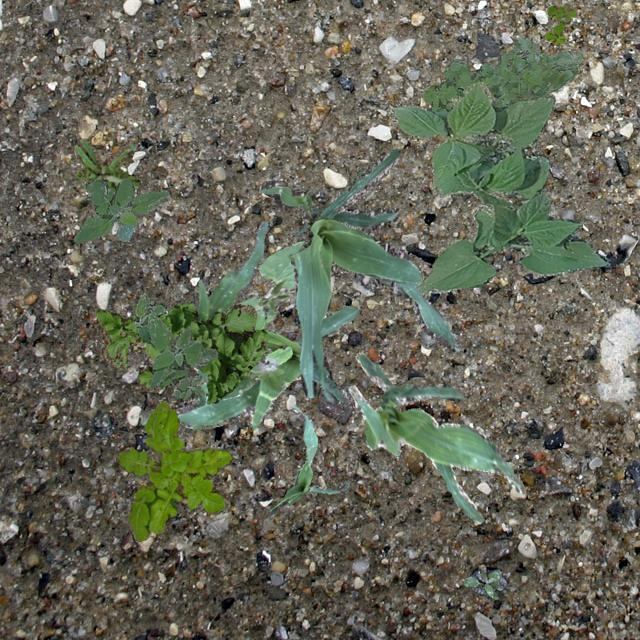crop: (258, 148, 460, 402), (388, 81, 610, 292), (348, 352, 524, 522), (140, 304, 358, 428), (196, 220, 266, 380), (270, 404, 348, 510), (238, 240, 304, 328)
weed: (95, 302, 268, 402), (114, 400, 230, 540), (422, 36, 582, 114), (132, 294, 216, 401), (204, 306, 290, 404), (73, 178, 168, 242), (72, 137, 138, 190), (544, 2, 576, 42), (462, 568, 502, 598)
